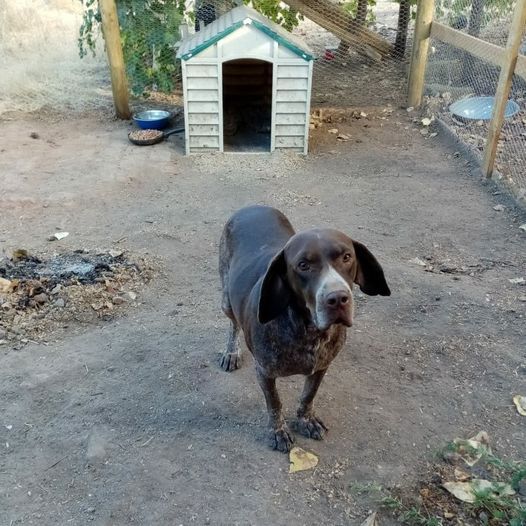dog: (207, 185, 400, 464)
